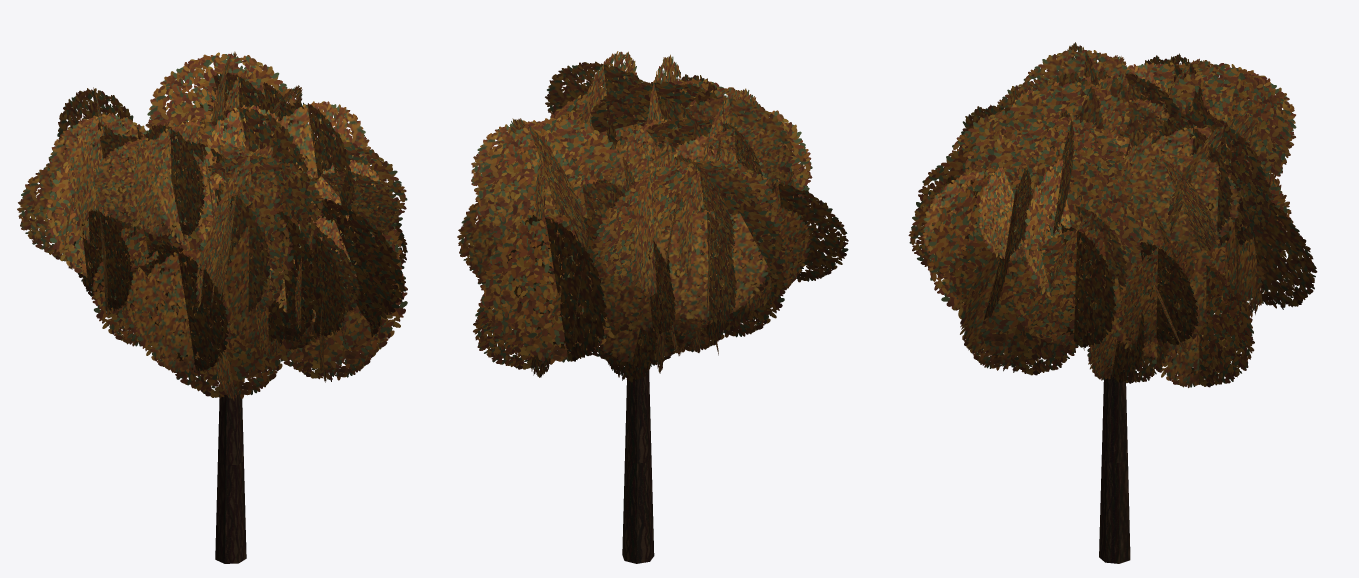
Rendered from zelkova_autumn.glb.
3 renders of one model, left to right at view 1: azimuth 30°, elevation 25°; view 2: azimuth 150°, elevation 25°; view 3: azimuth 270°, elevation 25°, orthographic. The views are drawn at different scales.
Parts seen in each view (by area): view 1: tree_zelkova; view 2: tree_zelkova; view 3: tree_zelkova.
Boxes of the visible parts, x1,y1,x2,y2 form: tree_zelkova: (17,51,407,563); tree_zelkova: (457,51,848,563); tree_zelkova: (908,42,1317,563).
Size of the model in its own units: 9.45 by 13.81 by 11.35.
3 materials, 3 textured.
